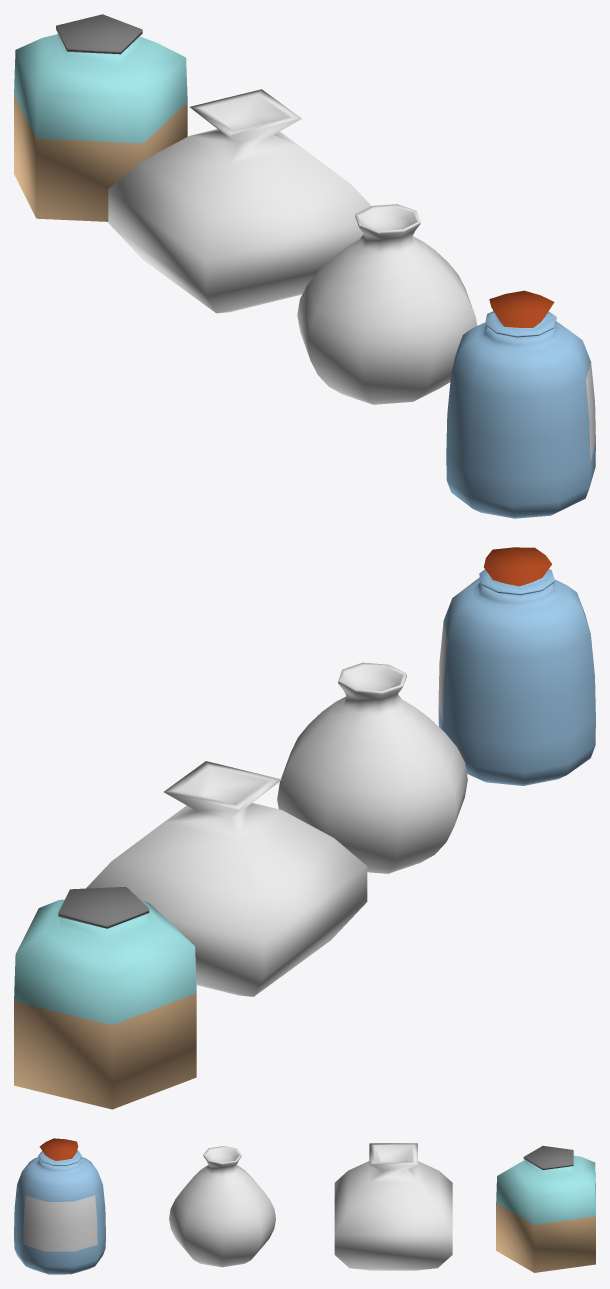
Rendered from Containers.fbx.
3 renders of one model, top to bottom at view 1: azimuth 30°, elevation 25°; view 2: azimuth 150°, elevation 25°; view 3: azimuth 270°, elevation 25°, orthographic. The views are drawn at different scales.
Visible parts, largest first — view 1: Cube.016, Cylinder.028, Cylinder.000, Cube.015; view 2: Cube.016, Cylinder.000, Cylinder.028, Cube.015; view 3: Cube.016, Cylinder.000, Cylinder.028, Cube.015.
Part boxes in pixels (x1=…): Cube.016: x1=108, y1=89, x2=371, y2=313; Cylinder.028: x1=446, y1=290, x2=595, y2=518; Cylinder.000: x1=14, y1=14, x2=187, y2=221; Cube.015: x1=297, y1=204, x2=477, y2=404; Cube.016: x1=86, y1=761, x2=367, y2=996; Cylinder.000: x1=14, y1=886, x2=196, y2=1109; Cylinder.028: x1=438, y1=547, x2=595, y2=785; Cube.015: x1=277, y1=662, x2=467, y2=873; Cube.016: x1=334, y1=1143, x2=452, y2=1270; Cylinder.000: x1=496, y1=1145, x2=595, y2=1272; Cylinder.028: x1=14, y1=1138, x2=105, y2=1274; Cube.015: x1=169, y1=1146, x2=275, y2=1267.
Size of the model in its own units: 69.95 by 72.34 by 325.
